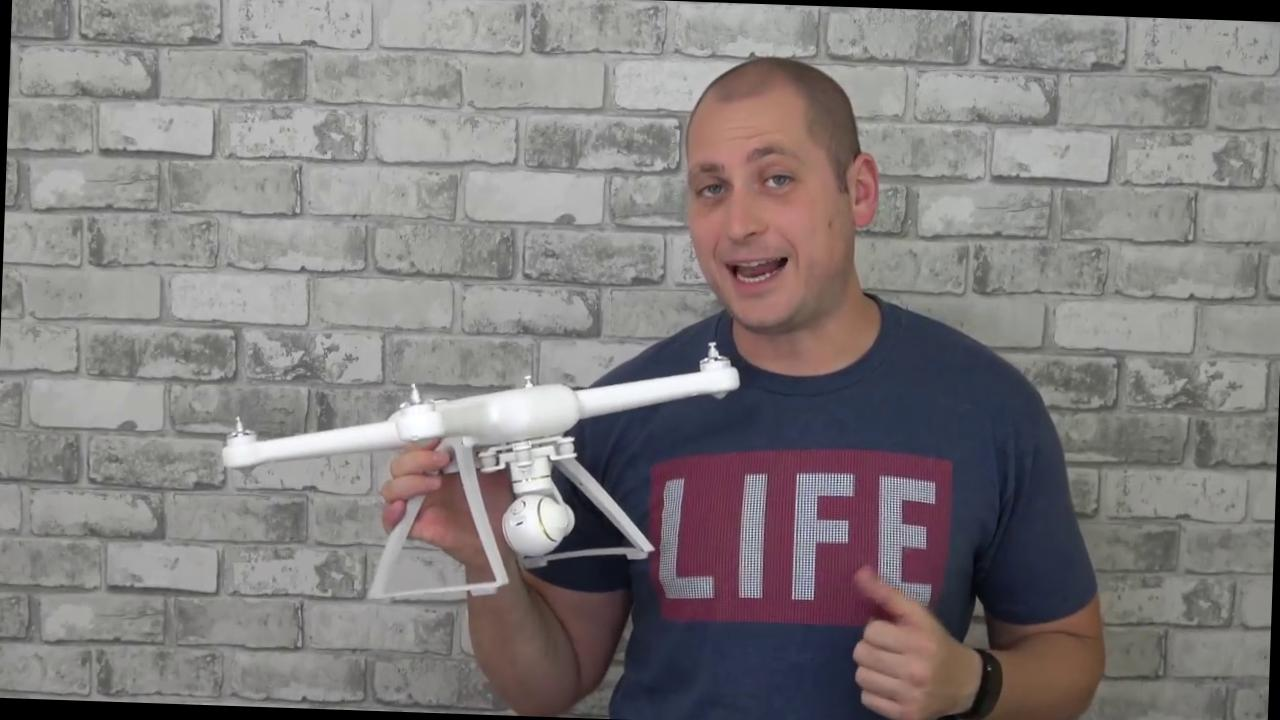drone: (213, 325, 748, 493)
